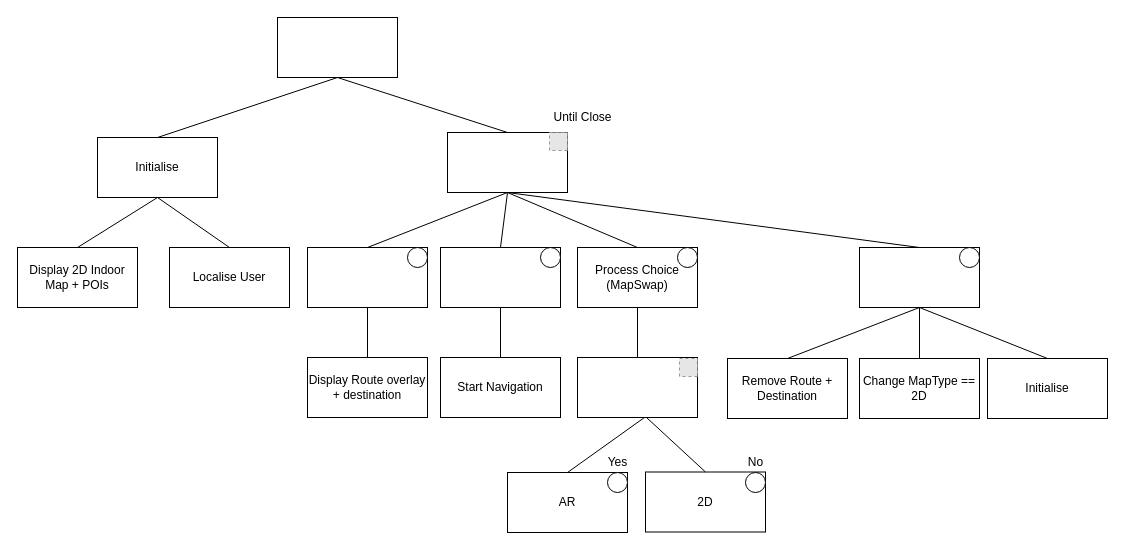
Image size: 1125x550. Some labels were removed from this diagram. Grey dashed boxes stand in for pictures. The box of each missing label's shape, as (x1, y1, x2, y2) in pixels:
is MapType == 2D?: (576, 356, 698, 418)
Map Activity: (276, 16, 398, 78)
Process Choice: (446, 132, 568, 192)
Process Choice (POI): (306, 246, 428, 308)
Process Choice (Start): (440, 246, 560, 308)
Process Choice (Stop): (858, 246, 980, 308)
